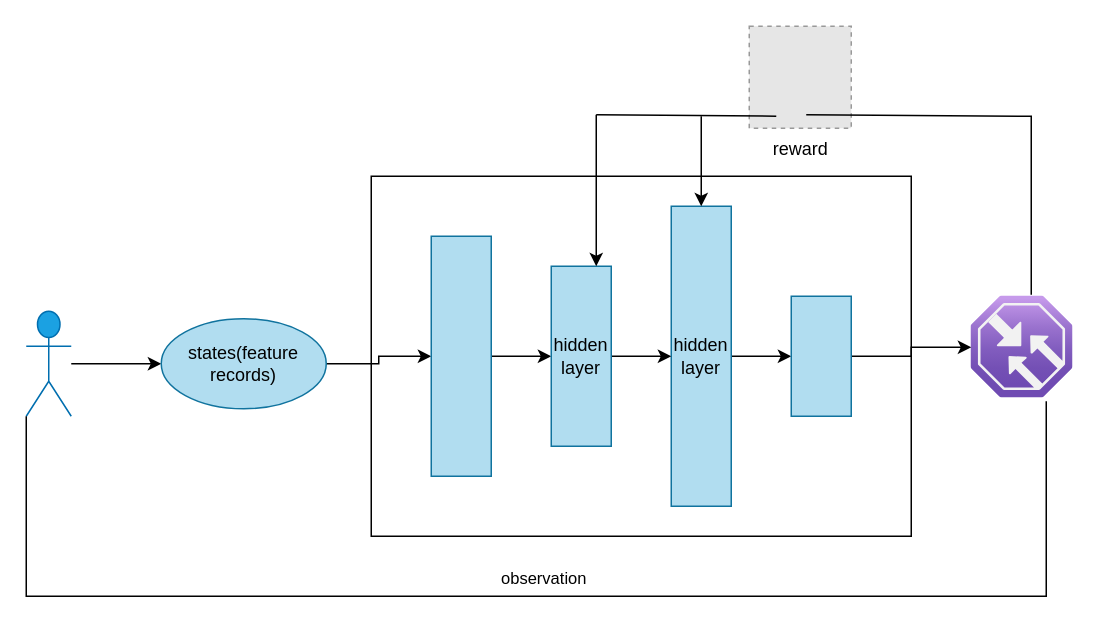
This 1106x624 diagram has some shape labels left out. Grey dashed boxes stand in for pictures. Each missing label, with the box of its shape:
actions: (790, 295, 851, 416)
input layer: (430, 235, 491, 476)
Network traffic (environment): (970, 296, 1072, 398)
